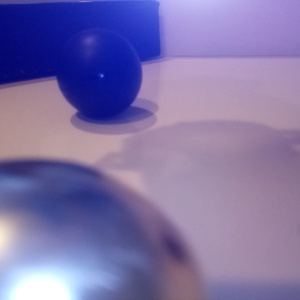alive_ball: (1, 156, 202, 300)
dead_ball: (56, 28, 144, 118)
